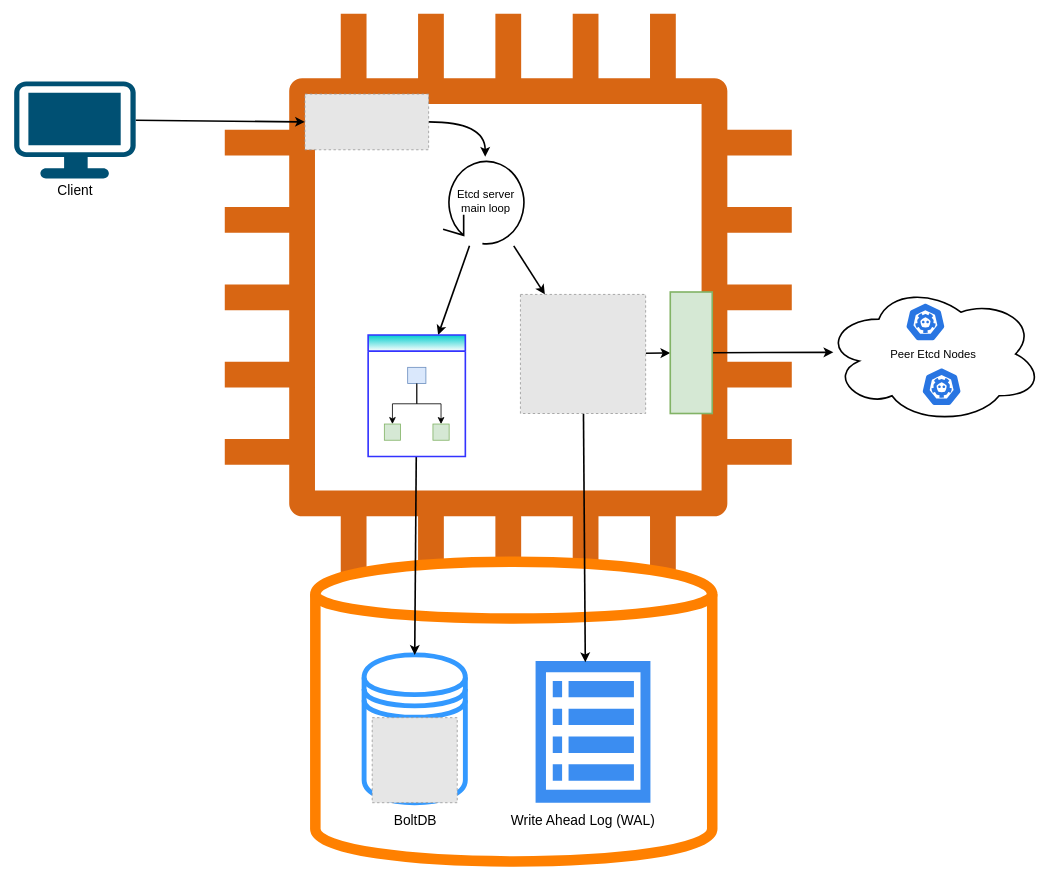
This 1057x880 diagram has some shape labels left out. Grey dashed boxes stand in for pictures. The box of each missing label's shape, as (x1, y1, x2, y2) in pixels:
MVCC: (367, 334, 466, 457)
Raft HTTP (p2p): (669, 291, 713, 414)
